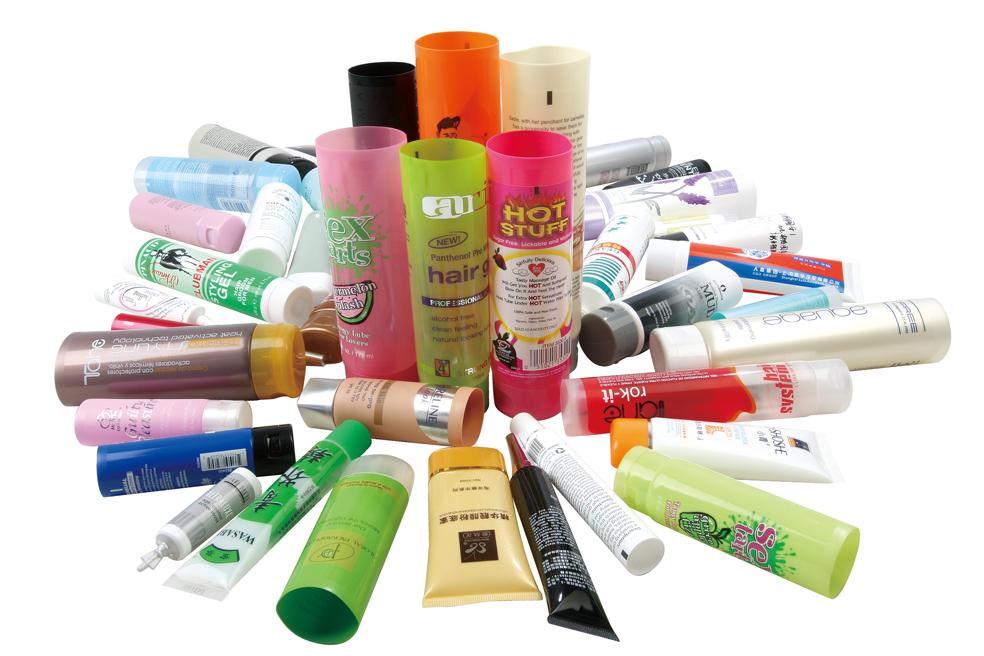Nonrec_Other: (45, 26, 963, 645)
